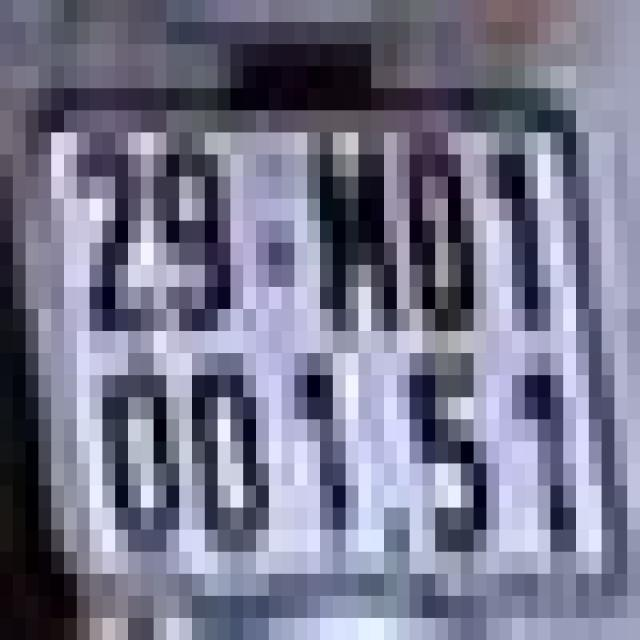0: (102, 353, 180, 552), (192, 353, 269, 552)
1: (512, 353, 576, 552), (294, 353, 358, 552), (486, 154, 550, 332)
2: (64, 132, 154, 331)
5: (410, 353, 500, 552)
9: (154, 132, 230, 331)
D: (409, 132, 474, 331)
M: (320, 132, 397, 331)
